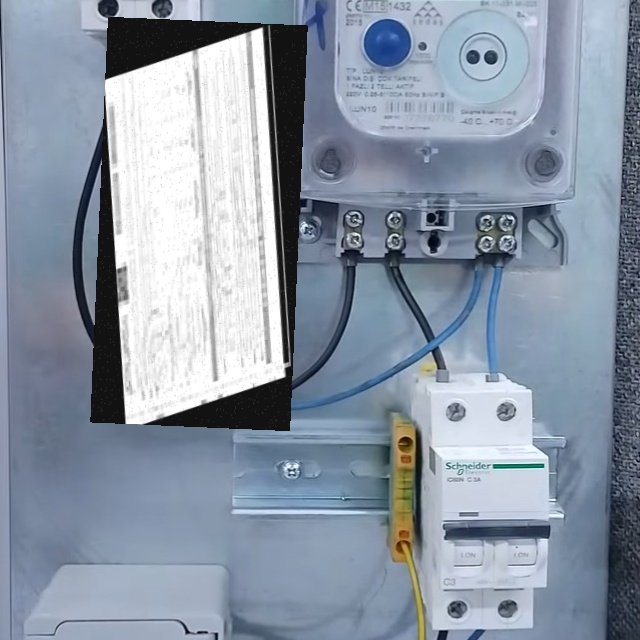electricity-bill: (89, 17, 307, 431)
